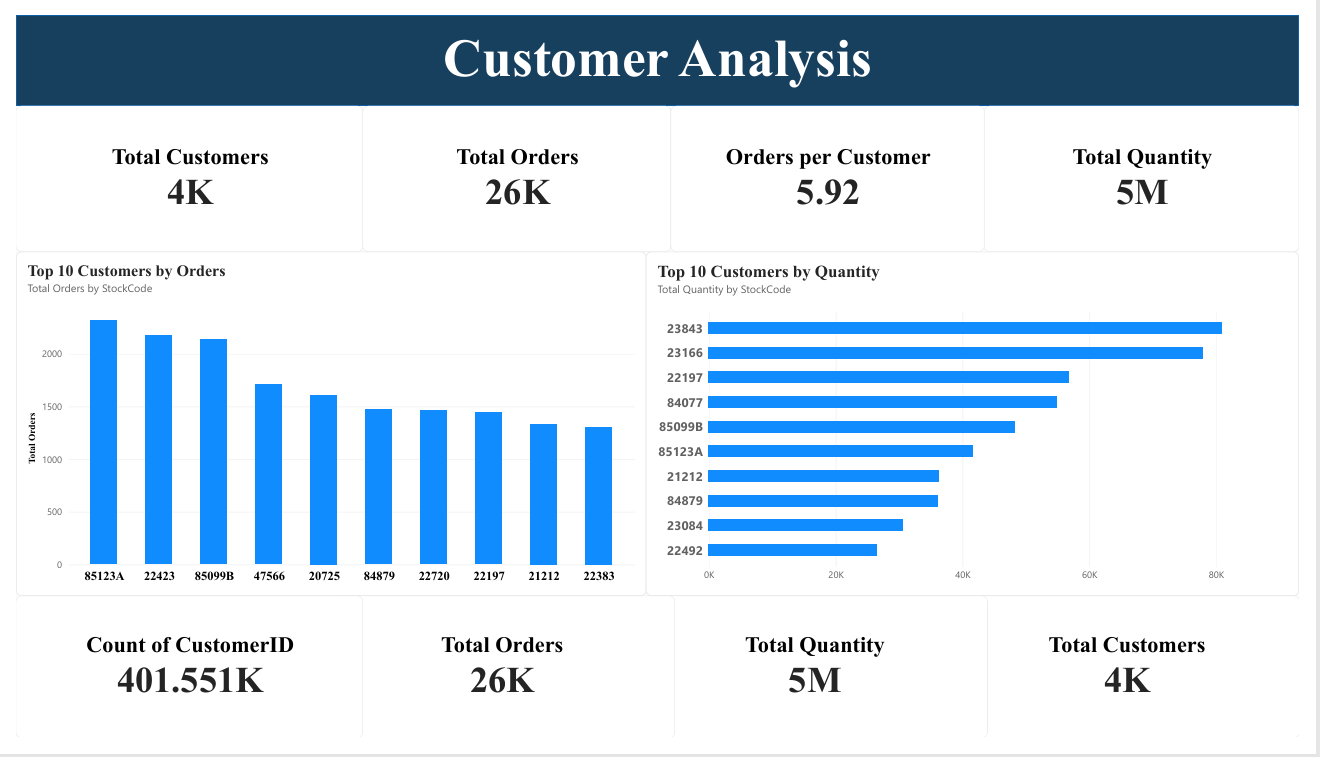

The dashboard page shown, as its layout file describes it:
{"tool":"powerbi","page":{"name":"Customer Analysis","canvas":[1920,1080],"ordinal":2},"visuals":[{"type":"shape","box":[0,0,1920.4,135.8],"z":0},{"type":"cardVisual","fields":{"Data":["DateTable.Total Customers"]},"box":[0,135.8,518.7,218.2],"z":0,"group":"g1"},{"type":"cardVisual","fields":{"Data":["DateTable.Total Orders"]},"box":[518.7,135.8,461.1,218.2],"z":0,"group":"g2"},{"type":"cardVisual","fields":{"Data":["DateTable.Orders per Customer"]},"box":[979.8,135.8,469.3,218.2],"z":0,"group":"g3"},{"type":"cardVisual","fields":{"Data":["DateTable.Total Quantity"]},"box":[1449.1,135.8,471.4,218.2],"z":0,"group":"g6"},{"type":"cardVisual","fields":{"Data":["CountNonNull(EcommerceData.CustomerID)"]},"box":[0,868.6,518.8,212],"z":0,"group":"g10"},{"type":"cardVisual","fields":{"Data":["DateTable.Total Orders"]},"box":[467.3,868.6,518.8,212],"z":0,"group":"g9"},{"type":"cardVisual","fields":{"Data":["DateTable.Total Quantity"]},"box":[934.7,868.6,518.8,212],"z":0,"group":"g8"},{"type":"cardVisual","fields":{"Data":["DateTable.Total Customers"]},"box":[1401.6,868.6,518.8,212],"z":0,"group":"g7"},{"type":"textbox","box":[0,18.5,1920.4,109.1],"z":1000},{"type":"group","id":"g1","title":"Group 1","box":[0,135.8,518.7,218.2],"z":2000,"group":"g5"},{"type":"columnChart","title":"Top 10 Customers by Orders","fields":{"Category":["EcommerceData.StockCode"],"Y":["DateTable.Total Orders"]},"box":[0,354,942.7,514.6],"z":2000},{"type":"group","id":"g2","title":"Group 1","box":[518.7,135.8,461.1,218.2],"z":3000,"group":"g5"},{"type":"barChart","title":"Top 10 Customers by Quantity","fields":{"Category":["EcommerceData.StockCode"],"Y":["DateTable.Total Quantity"]},"box":[942.7,354,977.7,514.6],"z":3000},{"type":"group","id":"g3","title":"Group 1","box":[979.8,135.8,469.3,218.2],"z":4000,"group":"g5"},{"type":"group","id":"g4","title":"Group 2","box":[0,868.6,1920.4,212],"z":4000},{"type":"group","id":"g5","title":"Group 3","box":[0,135.8,1920.4,218.2],"z":5000},{"type":"group","id":"g6","title":"Group 1","box":[1449.1,135.8,471.4,218.2],"z":5000,"group":"g5"},{"type":"group","id":"g7","title":"Group 1","box":[1401.6,868.6,518.8,212],"z":8000,"group":"g4"},{"type":"group","id":"g8","title":"Group 1","box":[934.7,868.6,518.8,212],"z":9000,"group":"g4"},{"type":"group","id":"g9","title":"Group 1","box":[467.3,868.6,518.8,212],"z":10000,"group":"g4"},{"type":"group","id":"g10","title":"Group 1","box":[0,868.6,518.8,212],"z":11000,"group":"g4"}]}

Visuals, with their boxes in screenshot pixels (x1, y1, x2, y2), scaled from the page's 1920x1080 canvas onto the 1320x757 screenshot:
shape: 0,0,1319,95
cardVisual - DateTable.Total Customers: 0,95,357,248
cardVisual - DateTable.Total Orders: 357,95,674,248
cardVisual - DateTable.Orders per Customer: 674,95,996,248
cardVisual - DateTable.Total Quantity: 996,95,1319,248
cardVisual - CountNonNull(EcommerceData.CustomerID): 0,609,357,756
cardVisual - DateTable.Total Orders: 321,609,678,756
cardVisual - DateTable.Total Quantity: 643,609,999,756
cardVisual - DateTable.Total Customers: 964,609,1319,756
textbox: 0,13,1319,89
"Group 1" group: 0,95,357,248
"Top 10 Customers by Orders" columnChart: 0,248,648,609
"Group 1" group: 357,95,674,248
"Top 10 Customers by Quantity" barChart: 648,248,1319,609
"Group 1" group: 674,95,996,248
"Group 2" group: 0,609,1319,756
"Group 3" group: 0,95,1319,248
"Group 1" group: 996,95,1319,248
"Group 1" group: 964,609,1319,756
"Group 1" group: 643,609,999,756
"Group 1" group: 321,609,678,756
"Group 1" group: 0,609,357,756
